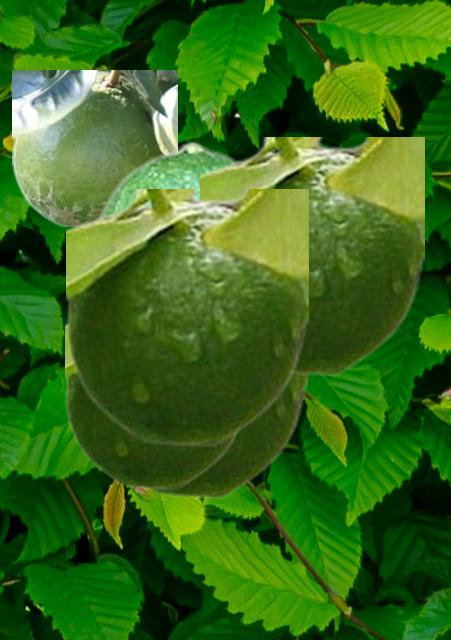dalandan: (66, 189, 307, 445), (200, 137, 423, 374), (65, 320, 242, 488), (12, 70, 176, 225), (144, 375, 306, 497), (93, 140, 241, 217)
